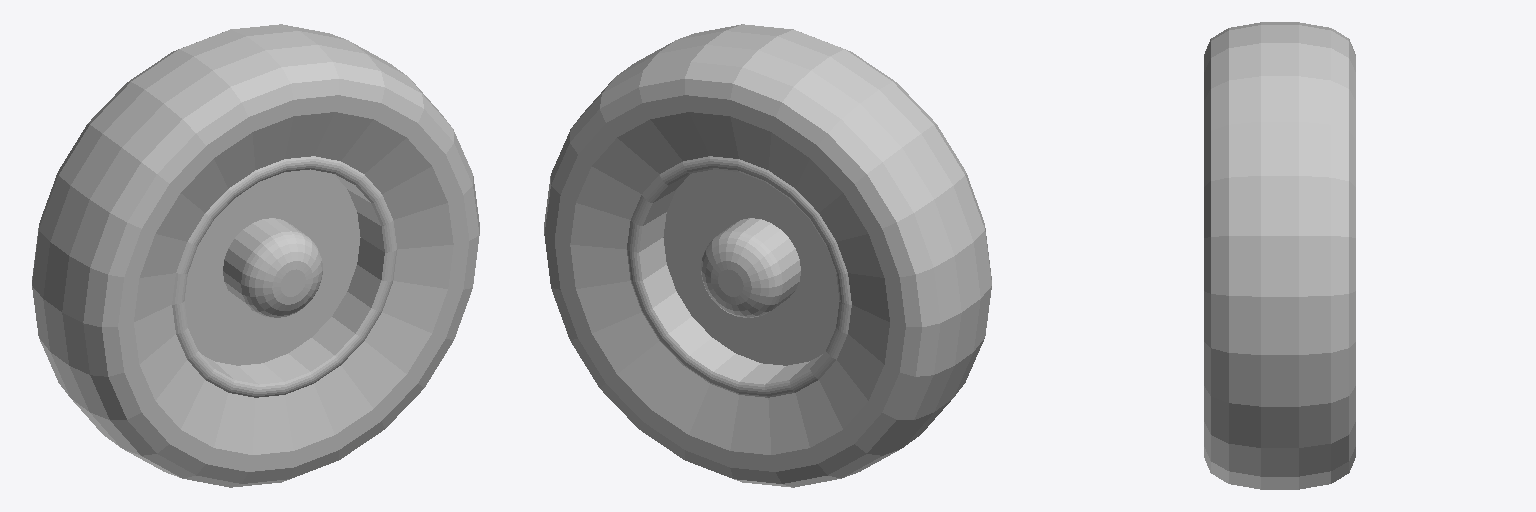
Rendered from WheelVer3.obj.
The picture shows the model from 3 angles: view 1: azimuth 30°, elevation 25°; view 2: azimuth 150°, elevation 25°; view 3: azimuth 270°, elevation 25°; orthographic projection.
Parts seen in each view (by area): view 1: nurbsCircle7 WheelContactMesh, WheelWall2Mesh nurbsCircle7, loftedSurface6; view 2: nurbsCircle7 WheelContactMesh, nurbsCircle7 WheelWall1Mesh, loftedSurface6; view 3: nurbsCircle7 WheelContactMesh.
Part boxes in pixels (x1,y1,x2,y2): nurbsCircle7 WheelContactMesh: (32, 24, 479, 487); WheelWall2Mesh nurbsCircle7: (134, 112, 453, 454); loftedSurface6: (172, 156, 396, 397); nurbsCircle7 WheelContactMesh: (544, 24, 991, 487); nurbsCircle7 WheelWall1Mesh: (570, 112, 889, 454); loftedSurface6: (627, 156, 851, 397); nurbsCircle7 WheelContactMesh: (1204, 22, 1355, 489).
Size of the model in its own units: 3.88 by 3.88 by 1.25.